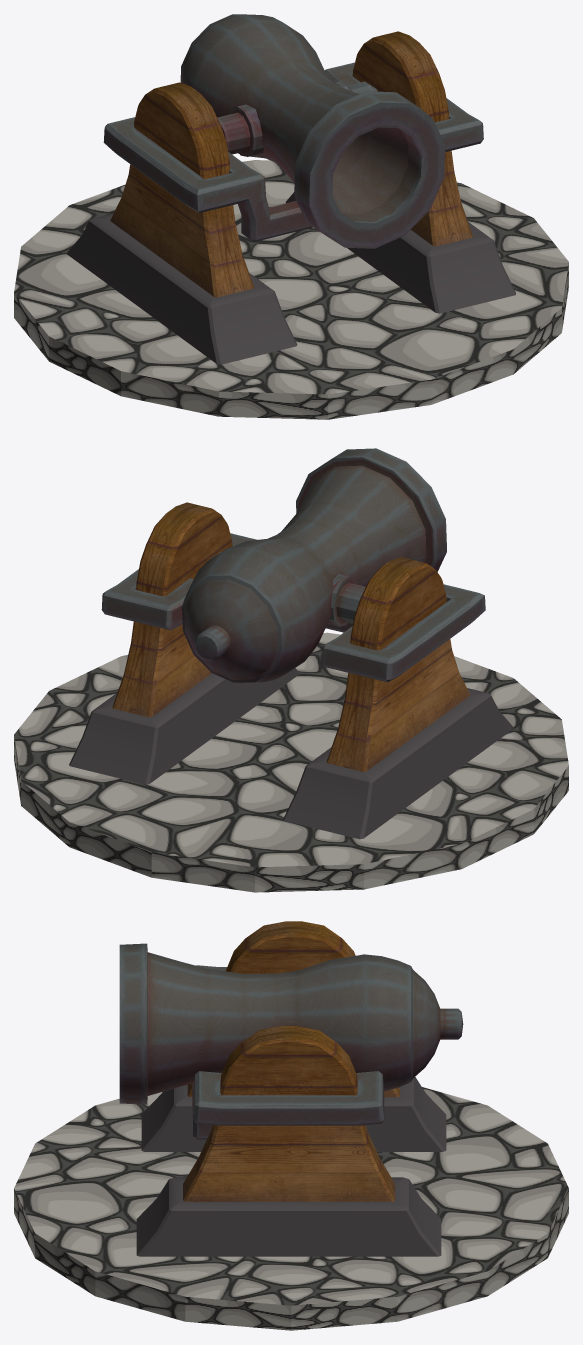
File: Cannon.fbx
3 views of the same model, one above another, from view 1: azimuth 30°, elevation 25°; view 2: azimuth 150°, elevation 25°; view 3: azimuth 270°, elevation 25° (orthographic).
Parts seen in each view (by area): view 1: Platform, GuardWall, Cannon, GuardSteel; view 2: Platform, GuardWall, Cannon, GuardSteel; view 3: Platform, GuardWall, Cannon, GuardSteel.
Part boxes in pixels (box(x1,y1,x2,y2)): Platform: box(14, 160, 568, 419); GuardWall: box(67, 31, 515, 364); Cannon: box(180, 14, 445, 248); GuardSteel: box(103, 62, 483, 241); Platform: box(14, 632, 568, 892); GuardWall: box(69, 502, 513, 839); Cannon: box(182, 448, 446, 682); GuardSteel: box(101, 533, 485, 682); Platform: box(14, 1087, 568, 1330); GuardWall: box(136, 921, 446, 1256); Cannon: box(119, 943, 463, 1104); GuardSteel: box(192, 965, 384, 1139).
Bounding box in the file's own units: 149 × 77.74 × 149.
3 materials, 3 textured.
